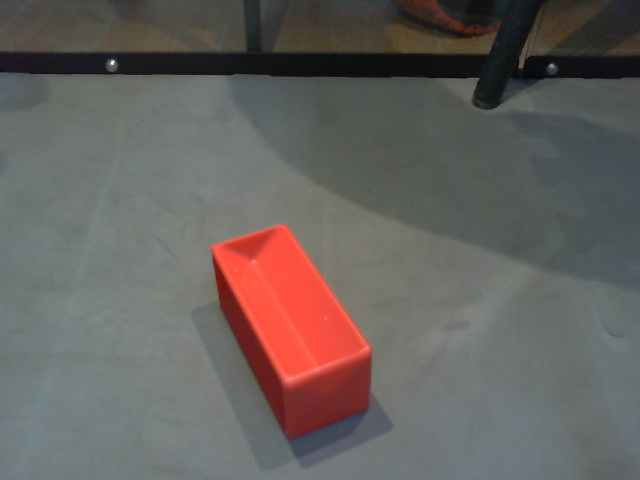RedSample: (207, 220, 375, 442)
